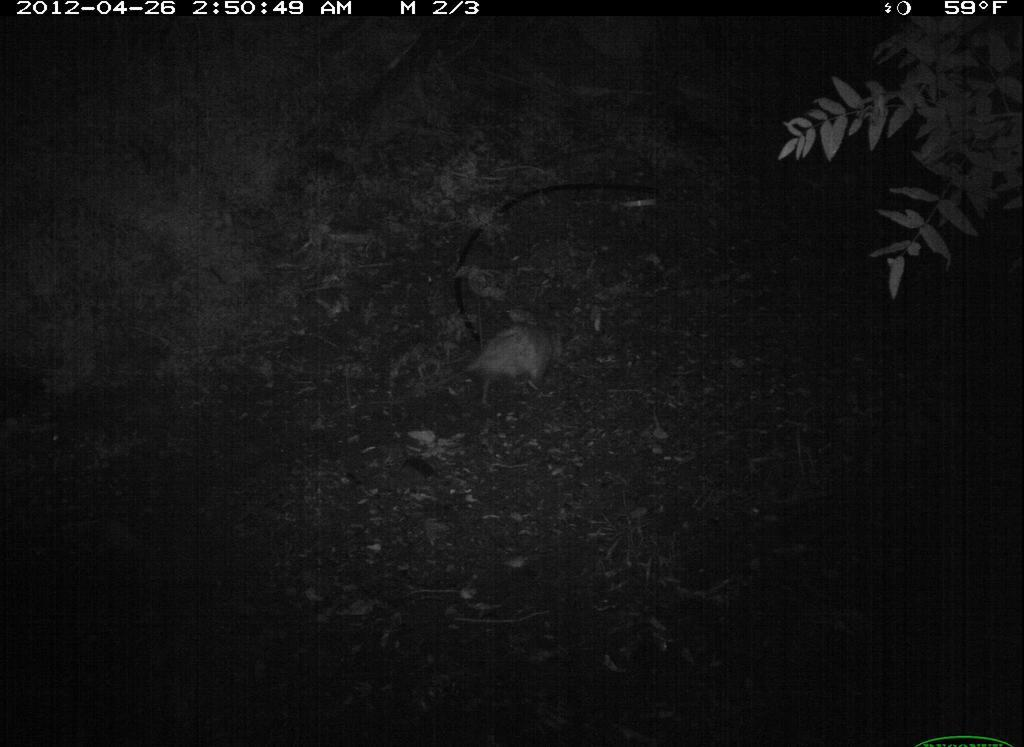opossum: (418, 319, 569, 408)
